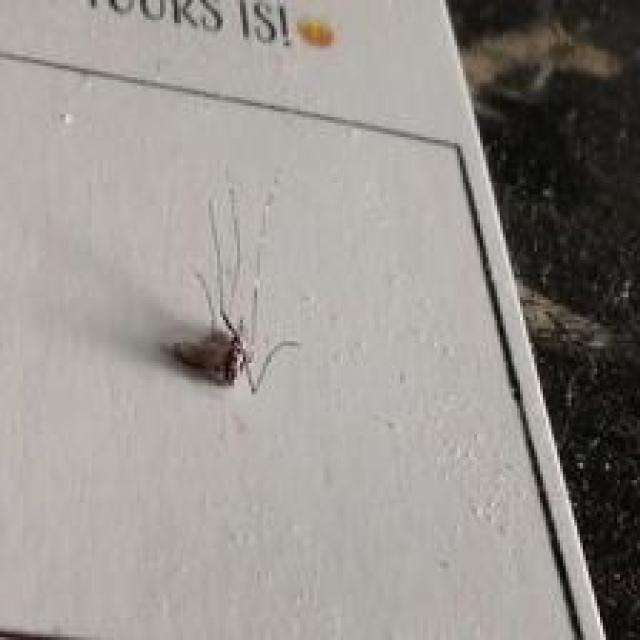Aedes albopictus: (170, 183, 301, 394)
